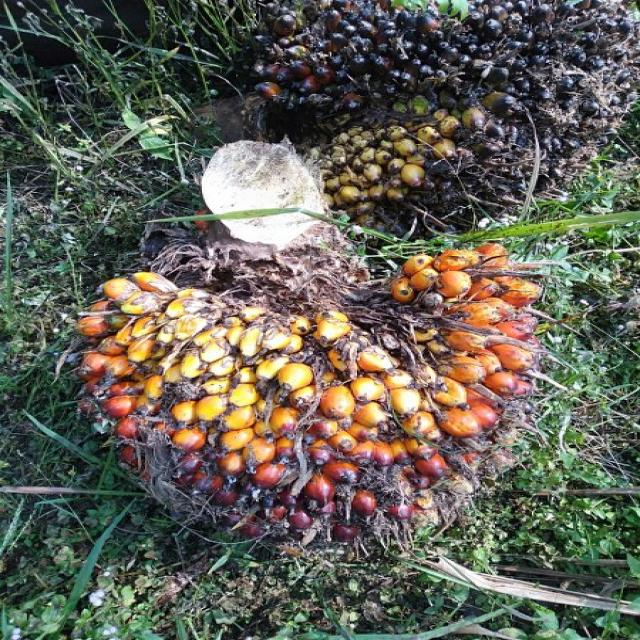fraksi 1: (45, 171, 597, 617)
